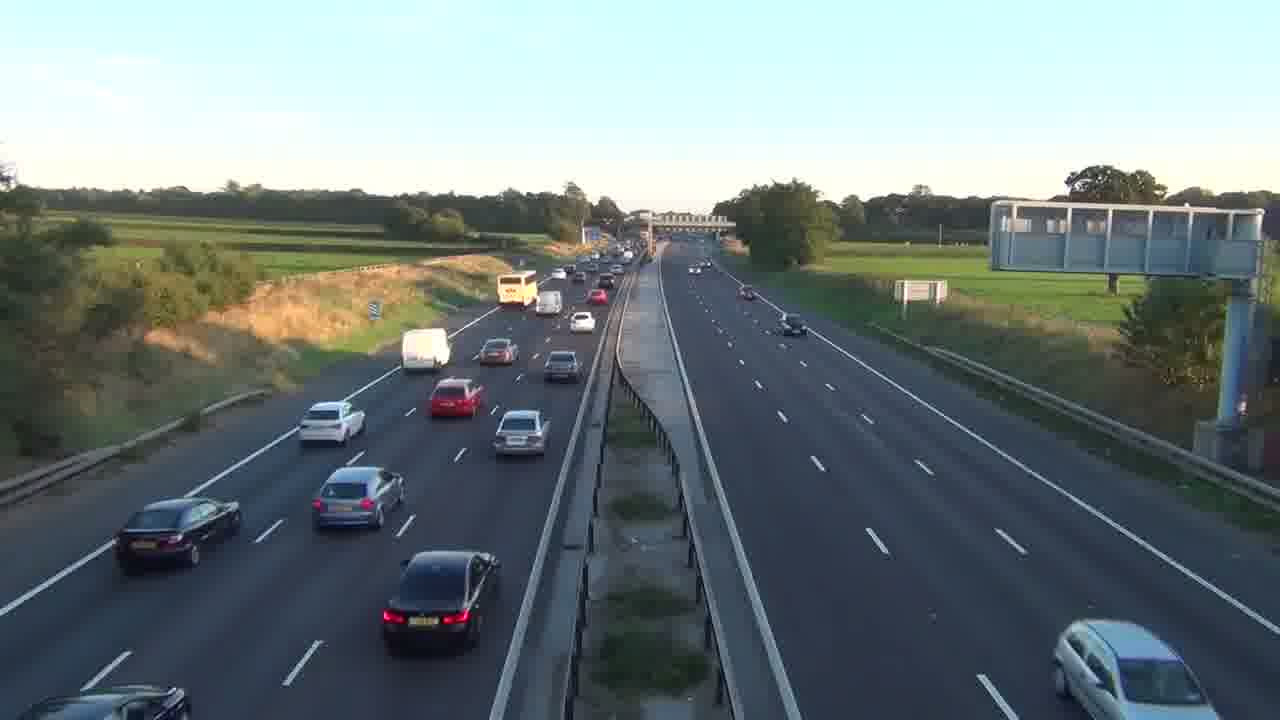car: (1051, 617, 1222, 720), (379, 547, 501, 657), (112, 494, 242, 576), (18, 683, 191, 720), (311, 464, 405, 530), (297, 400, 368, 448), (491, 408, 551, 457), (427, 376, 485, 419), (543, 350, 581, 384), (477, 337, 518, 367), (571, 311, 594, 333)
truck: (1051, 617, 1222, 720), (400, 327, 451, 373), (496, 272, 538, 307), (534, 287, 564, 316)
